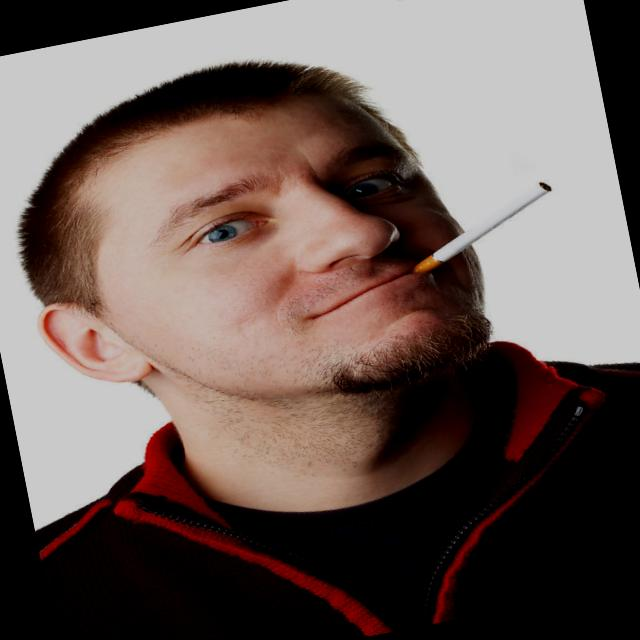smoke: (406, 176, 564, 278)
